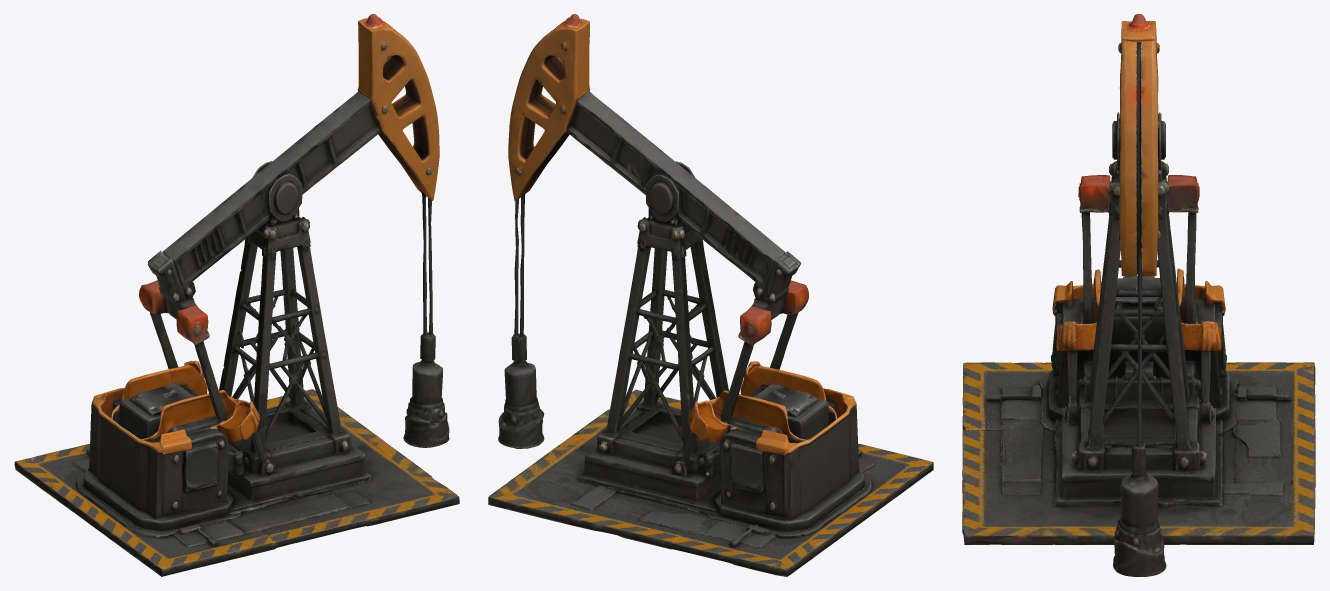
The model's file is Oil_Pump.fbx.
3 views of the same model, side by side, from view 1: azimuth 30°, elevation 25°; view 2: azimuth 150°, elevation 25°; view 3: azimuth 270°, elevation 25° (orthographic). The views are drawn at different scales.
Parts seen in each view (by area): view 1: Oil Pump; view 2: Oil Pump; view 3: Oil Pump.
Boxes of the visible parts, bbox=[...] form: Oil Pump: bbox=[14, 14, 459, 576]; Oil Pump: bbox=[488, 14, 933, 576]; Oil Pump: bbox=[962, 14, 1315, 576].
Size of the model in its own units: 98.07 by 116 by 70.24.
